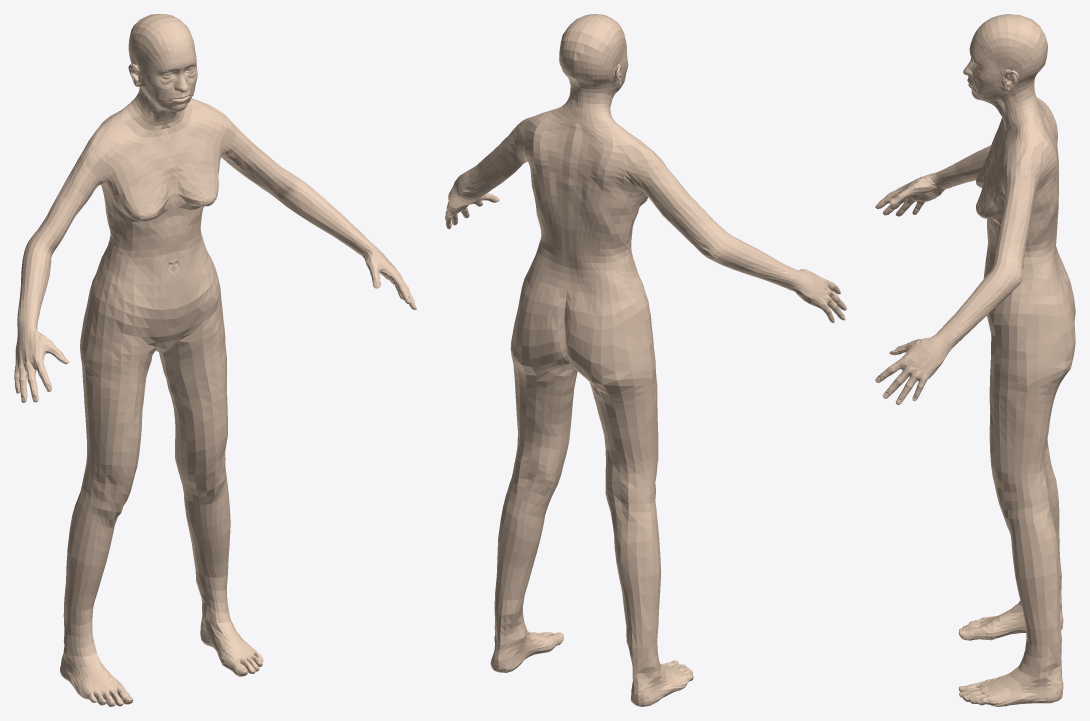
File: female-elder-fit-medium.glb
3 views of the same model, side by side, from view 1: azimuth 30°, elevation 25°; view 2: azimuth 150°, elevation 25°; view 3: azimuth 270°, elevation 25° (orthographic).
Visible parts, largest first — view 1: world; view 2: world; view 3: world.
Part boxes in pixels (x1,y1,x2,y2): world: [14, 14, 416, 706]; world: [445, 14, 846, 706]; world: [875, 14, 1075, 706].
Size of the model in its own units: 1.13 by 1.8 by 0.5031.
